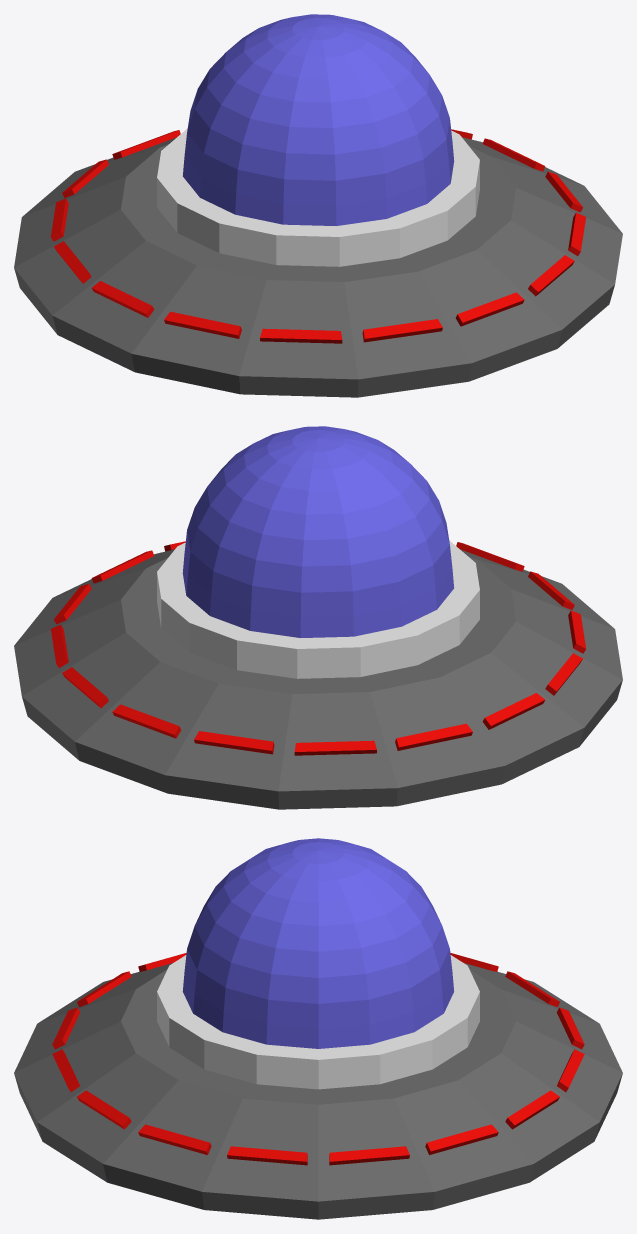
File: UFO.fbx
3 views of the same model, one above another, from view 1: azimuth 30°, elevation 25°; view 2: azimuth 150°, elevation 25°; view 3: azimuth 270°, elevation 25° (orthographic).
Parts seen in each view (by area): view 1: UFO; view 2: UFO; view 3: UFO.
Part boxes in pixels (bbox=[...]): UFO: bbox=[14, 14, 622, 397]; UFO: bbox=[14, 426, 622, 809]; UFO: bbox=[14, 838, 622, 1219].
Size of the model in its own units: 10.07 by 5.42 by 10.07.
